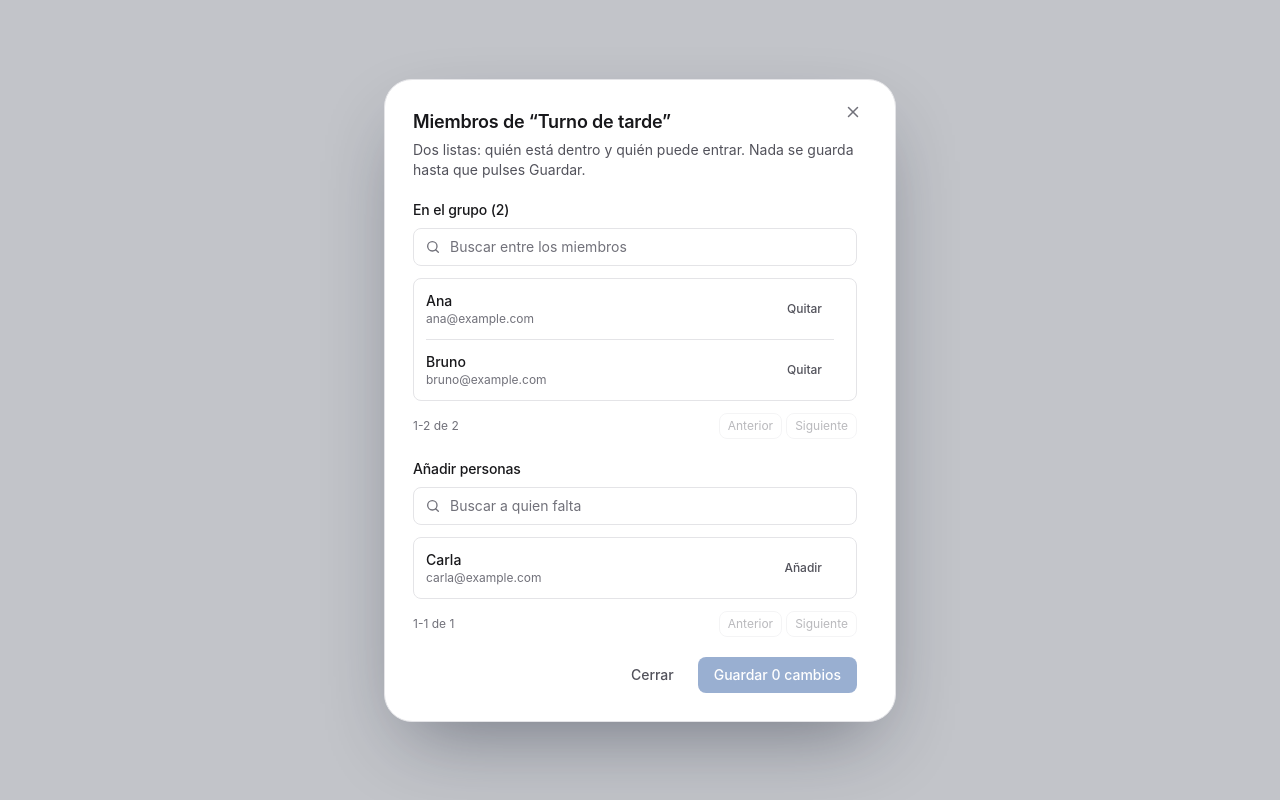
Test: GroupMembersDialog › lets a staged change be taken back before saving
Expected: the text "Carla" is shown, [426,550,461,568]
Click the button "Añadir" at (803, 568), box [772,554,834,582]
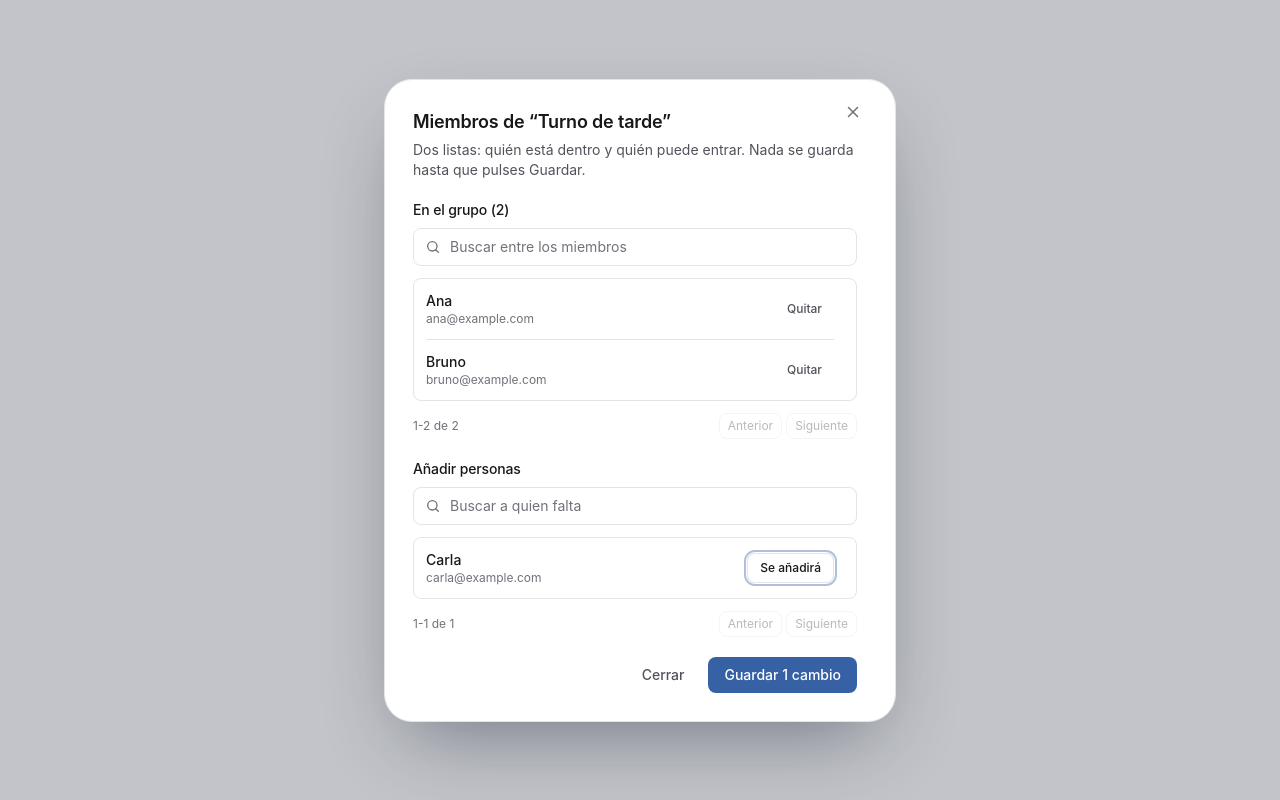
Now the button "Se añadirá" is shown
Click the button "Se añadirá" at (791, 568), box [747,552,834,582]
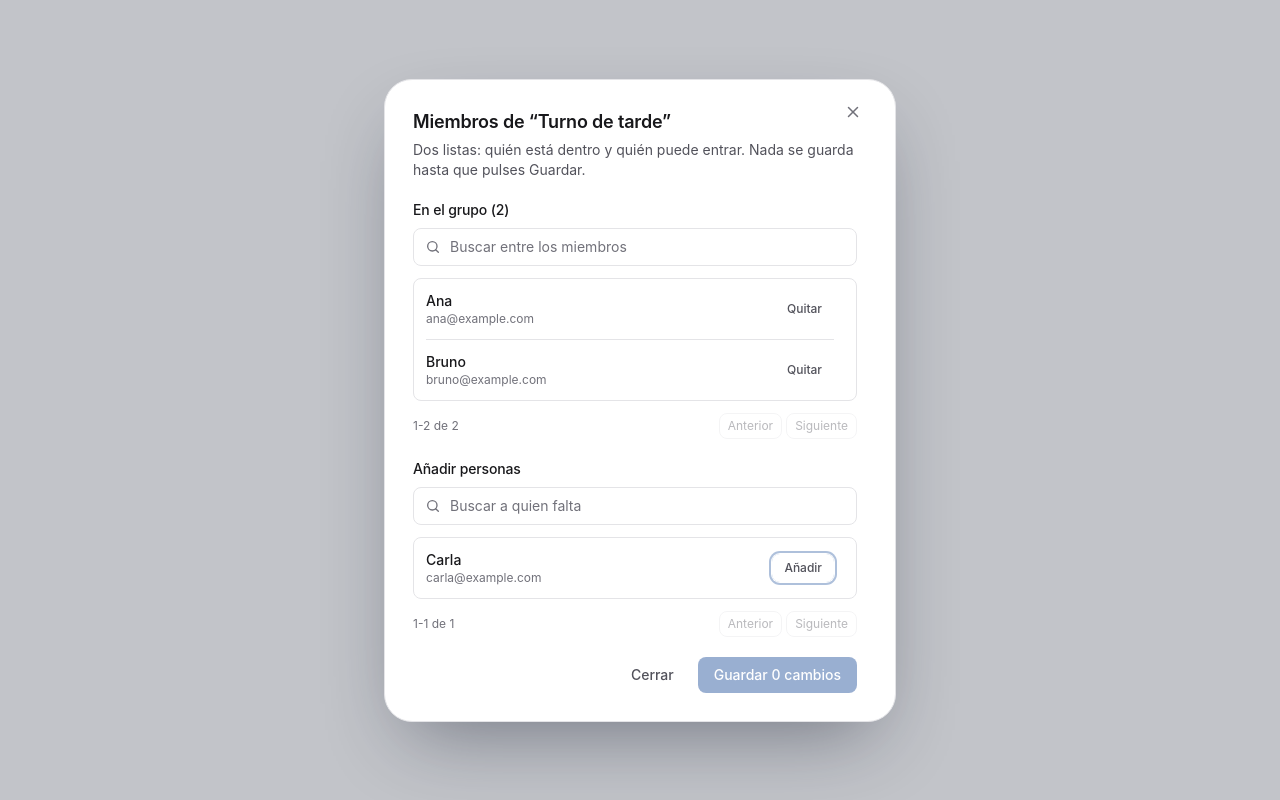
Now the button "Añadir" is shown, box [772,554,834,582]
Now the button "Guardar 0 cambios" is disabled, box [698,656,857,692]
